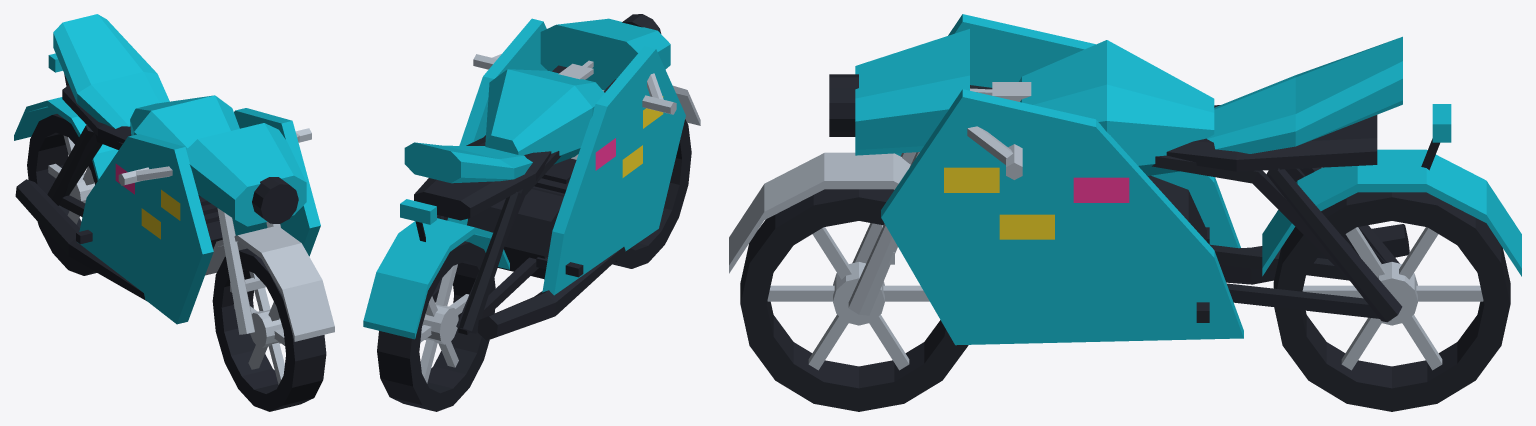
Rendered from sport-stickered.glb.
3 views of the same model, side by side, from view 1: azimuth 30°, elevation 25°; view 2: azimuth 150°, elevation 25°; view 3: azimuth 270°, elevation 25° (orthographic). The views are drawn at different scales.
Parts seen in each view (by area): view 1: bike_body, wheel_front, fork_mesh, wheel_rear; view 2: bike_body, wheel_rear, wheel_front, fork_mesh; view 3: bike_body, wheel_rear, wheel_front, fork_mesh.
Part boxes in pixels (x1,y1,x2,y2): bike_body: (14, 14, 320, 324); wheel_front: (212, 248, 326, 411); fork_mesh: (118, 128, 334, 341); wheel_rear: (27, 114, 97, 275); bike_body: (363, 14, 685, 340); wheel_rear: (377, 241, 495, 411); wheel_front: (612, 119, 691, 268); fork_mesh: (473, 54, 700, 159); bike_body: (829, 14, 1521, 345); wheel_rear: (1273, 192, 1510, 411); wheel_front: (740, 189, 968, 411); fork_mesh: (729, 82, 1031, 315).
Bounding box in the file's own units: 0.84 × 1.05 × 2.14.
